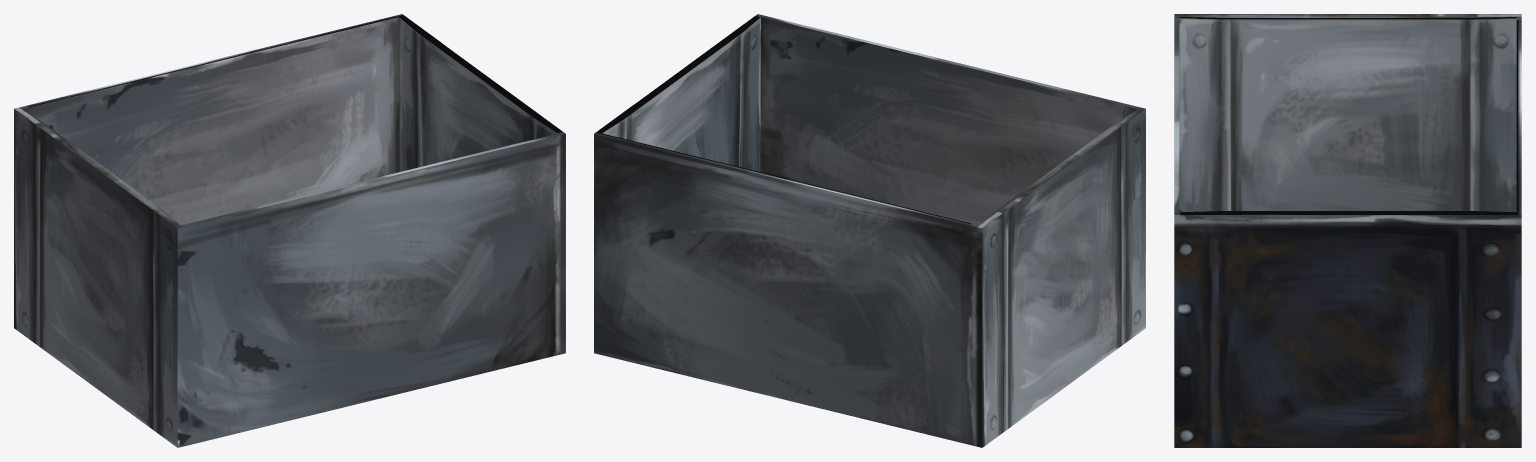
Rendered from Vagoneta.fbx.
3 renders of one model, left to right at view 1: azimuth 30°, elevation 25°; view 2: azimuth 150°, elevation 25°; view 3: azimuth 270°, elevation 25°, orthographic. The views are drawn at different scales.
Parts seen in each view (by area): view 1: Cube; view 2: Cube; view 3: Cube.
Part boxes in pixels (x1=…): Cube: x1=14, y1=14, x2=565, y2=447; Cube: x1=594, y1=14, x2=1145, y2=447; Cube: x1=1174, y1=14, x2=1521, y2=447.
Size of the model in its own units: 370 by 200 by 270.
Materials: 1 (1 with a texture image).
